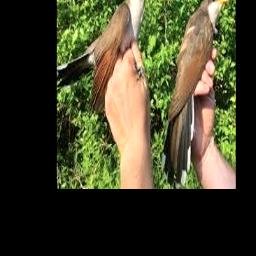Cuckoo: (163, 0, 229, 186), (57, 0, 154, 117)
